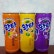paper: (1, 12, 20, 52), (19, 12, 35, 52), (35, 12, 51, 51)
